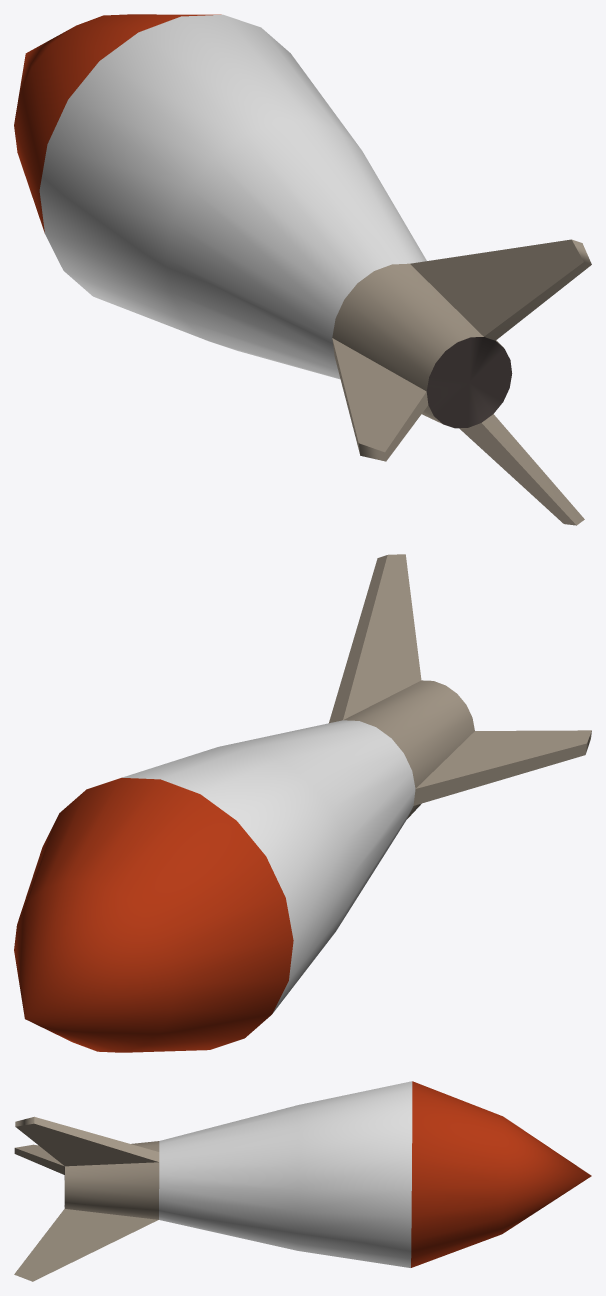
The model's file is SM_ProjectileRocket.fbx.
The picture shows the model from 3 angles, top to bottom: view 1: azimuth 30°, elevation 25°; view 2: azimuth 150°, elevation 25°; view 3: azimuth 270°, elevation 25°; orthographic projection. The views are drawn at different scales.
Visible parts, largest first — view 1: SM_ProjectileRocket; view 2: SM_ProjectileRocket; view 3: SM_ProjectileRocket.
Part boxes in pixels (x1,y1,x2,y2): SM_ProjectileRocket: (14, 14, 591, 525); SM_ProjectileRocket: (14, 554, 591, 1052); SM_ProjectileRocket: (14, 1081, 591, 1281).
Bounding box in the file's own units: 31.91 × 32.17 × 97.47.
